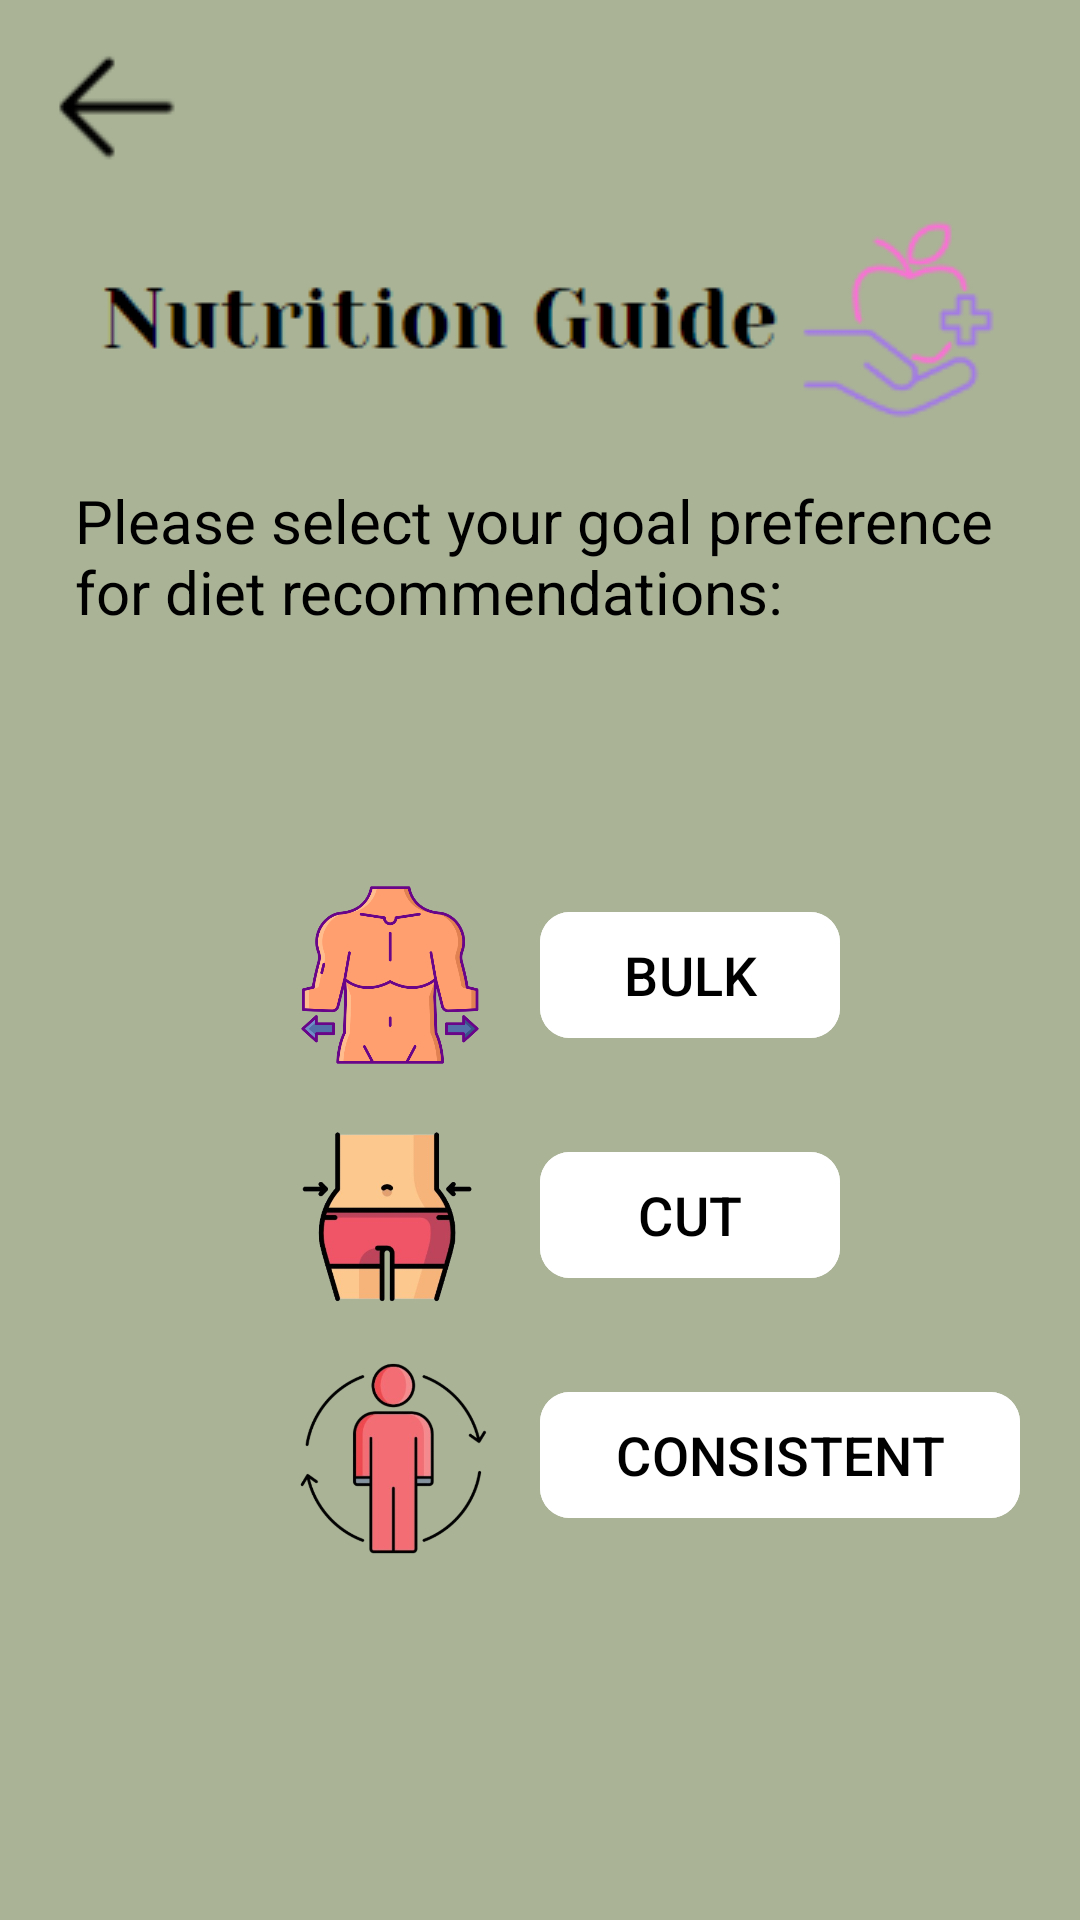

Icons on this 1080×1920 Android screen, each with its box as (x1, y1, x2, y2):
backbutt: (59, 56, 175, 158)
